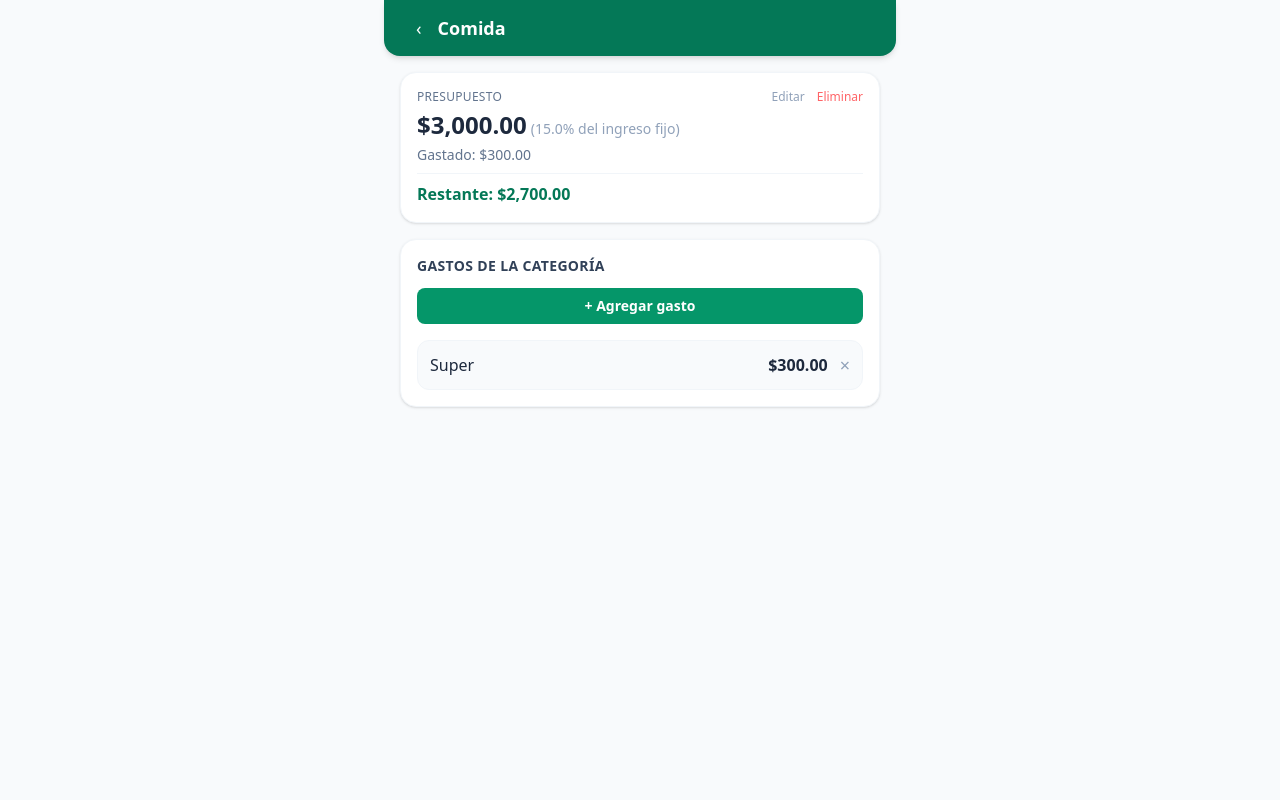
it: PresupuestoDetalleRoute › editar el presupuesto refleja el nuevo monto
The image size is (1280, 800).
Click the button "Editar" at (788, 97), box [772, 89, 805, 105]
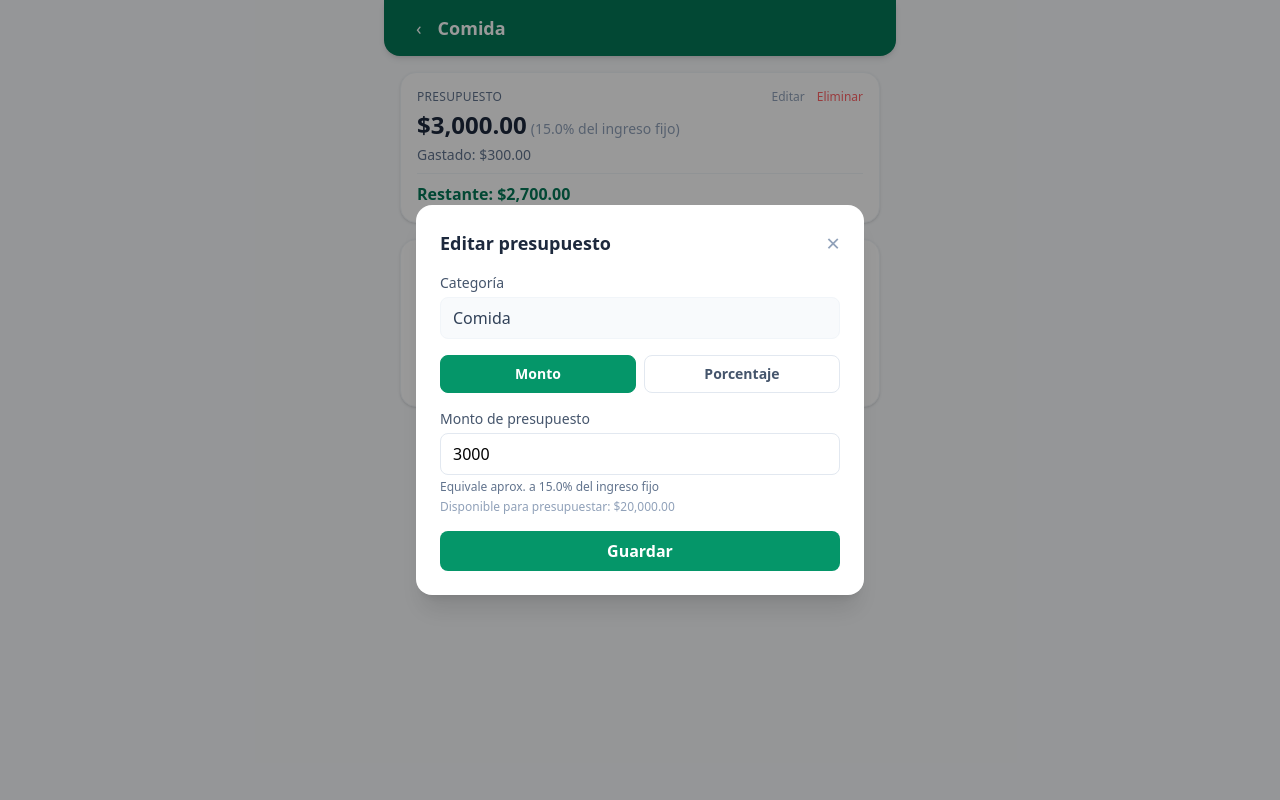
Replace the text in the number field showing "3000" with "5000" at (640, 454), box [440, 433, 840, 475]
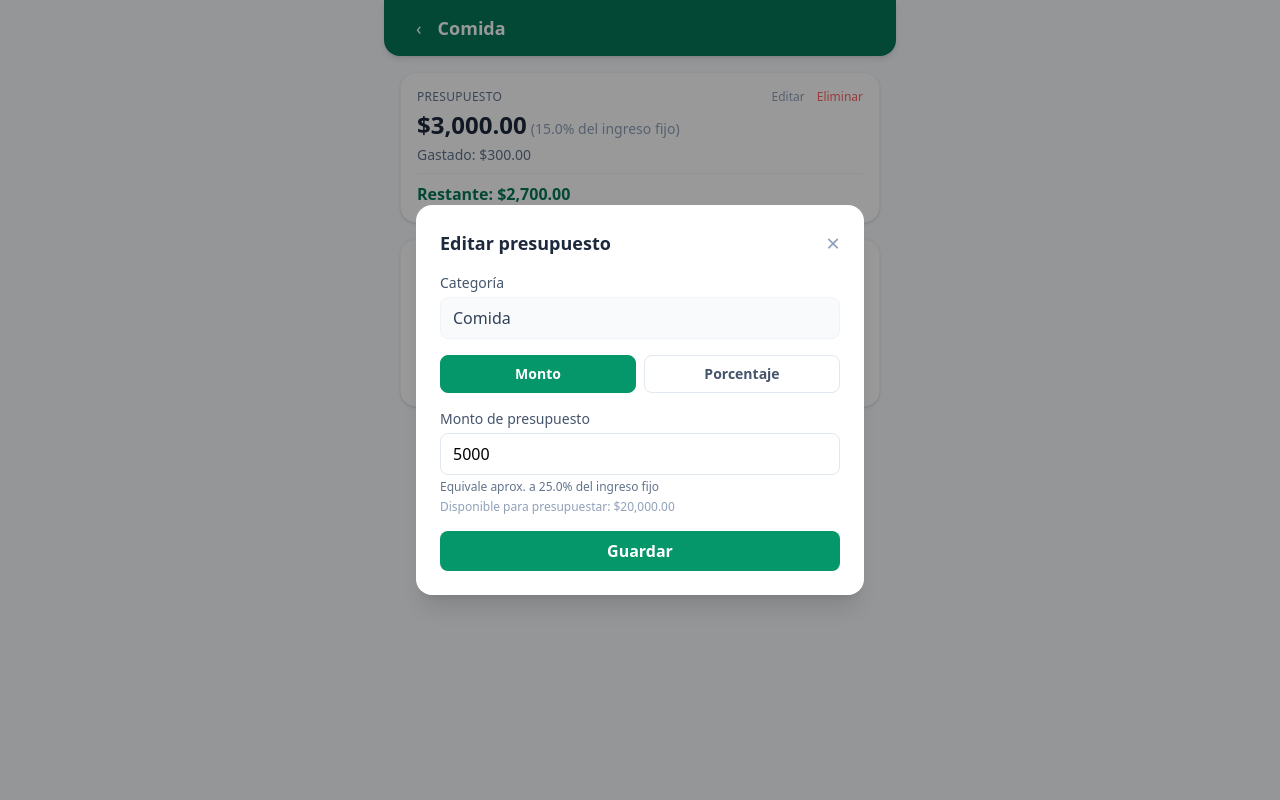
Click the button "Guardar" at (640, 551), box [440, 531, 840, 571]
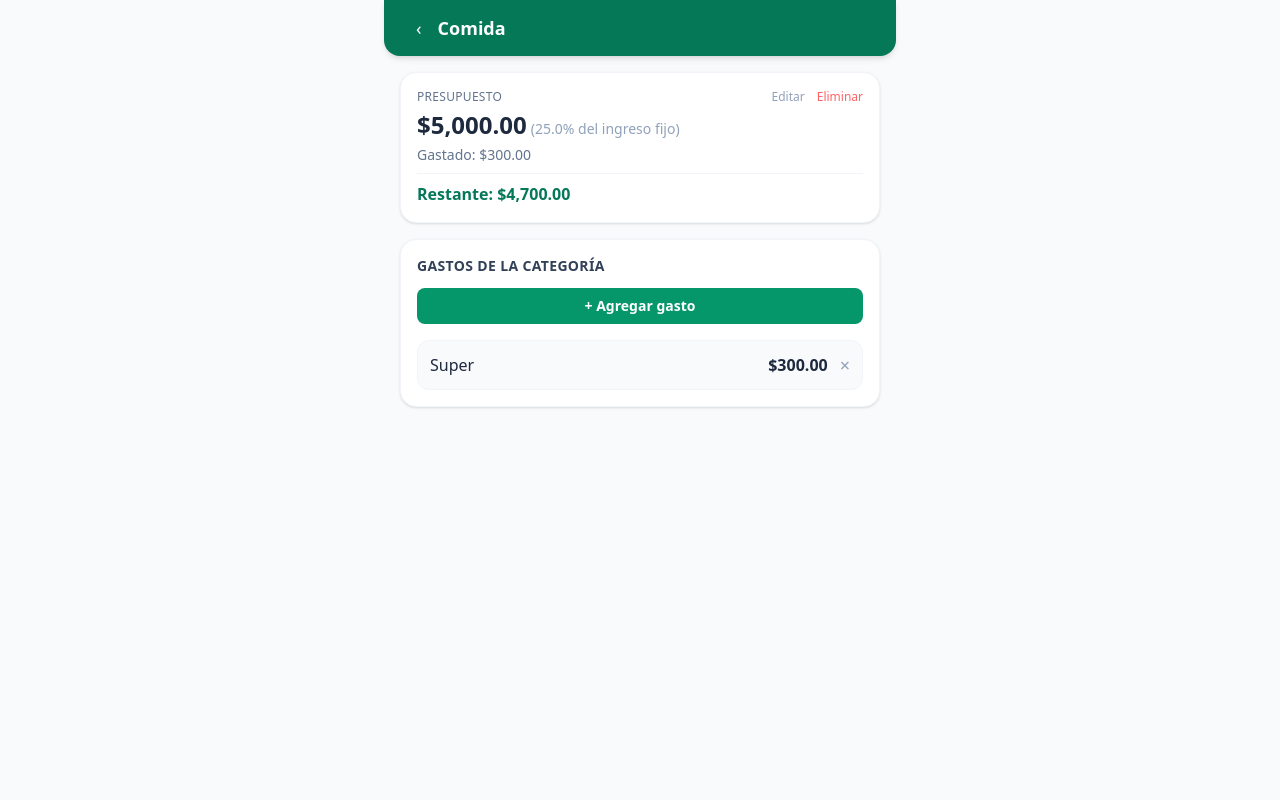
Expected: the text "$5,000.00(25.0% del ingreso fijo)" is shown, [417, 108, 680, 141]
